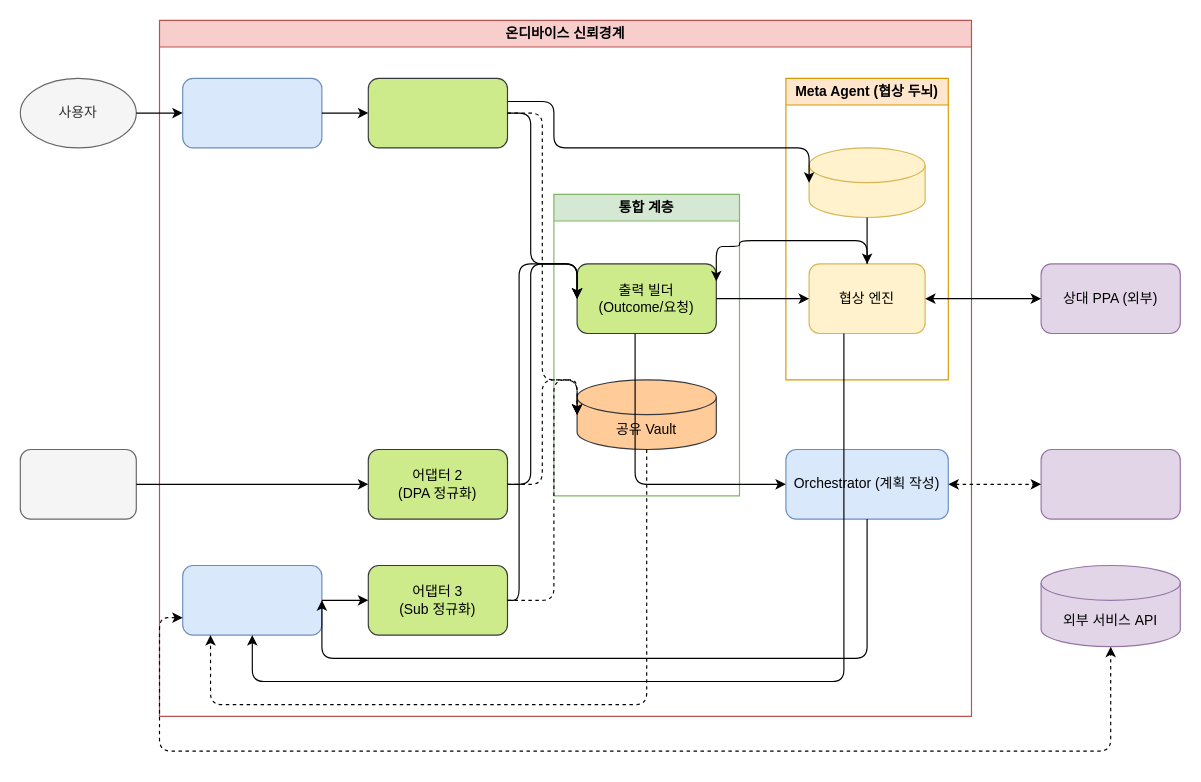
This 1201x782 diagram has some shape labels left out. Each missing label, with the centre of its shape:
Cloud LLM (외부): (x=1110, y=483)
DPA (가전): (x=77, y=483)
IDS (Intent 감지): (x=252, y=112)
Sub-Agent (실행/조회): (x=252, y=599)
ufun: (x=866, y=182)
어댑터 1 (IDS 정규화): (x=437, y=112)
